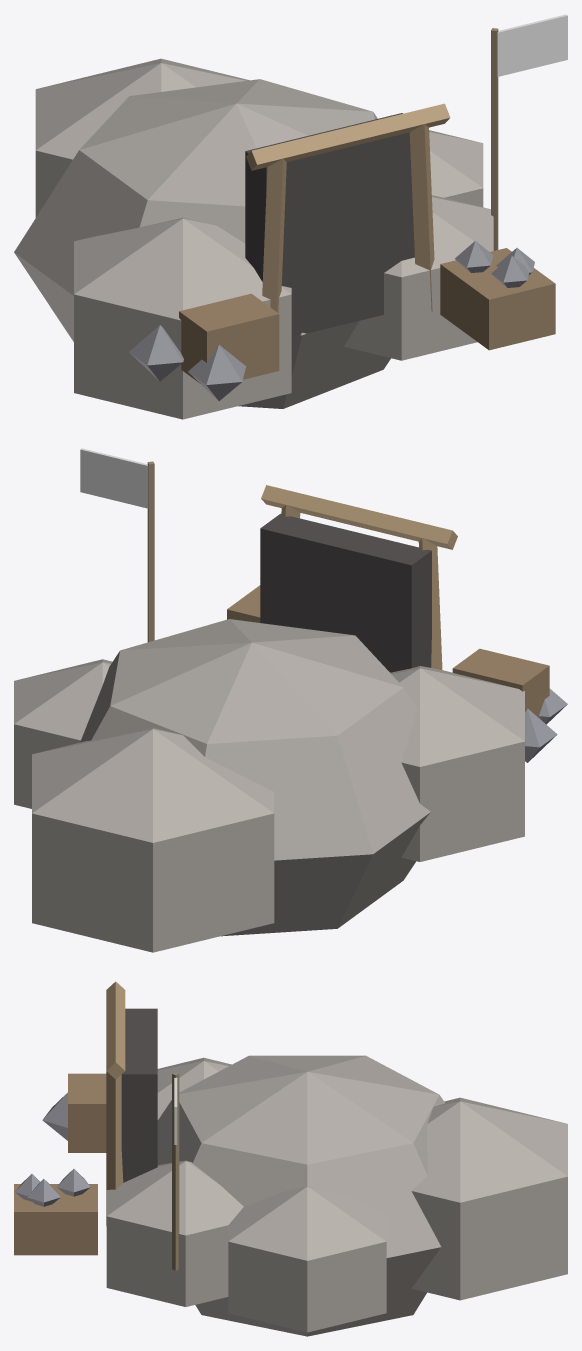
3 renders of one model, top to bottom at view 1: azimuth 30°, elevation 25°; view 2: azimuth 150°, elevation 25°; view 3: azimuth 270°, elevation 25°, orthographic. The views are drawn at different scales.
Parts seen in each view (by area): view 1: body; view 2: body; view 3: body.
Boxes of the visible parts, x1,y1,x2,y2 form: body: [14, 14, 567, 419]; body: [14, 448, 567, 952]; body: [14, 981, 567, 1336].
Size of the model in its own units: 7.89 by 5.84 by 9.25.
